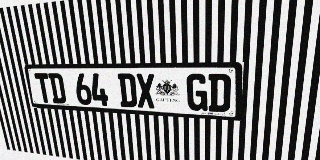4: (89, 73, 109, 106)
6: (74, 73, 93, 105)
D: (208, 74, 231, 112), (117, 73, 137, 108), (48, 73, 67, 104)
G: (186, 74, 208, 111)
T: (34, 73, 53, 103)
X: (135, 73, 156, 108)
